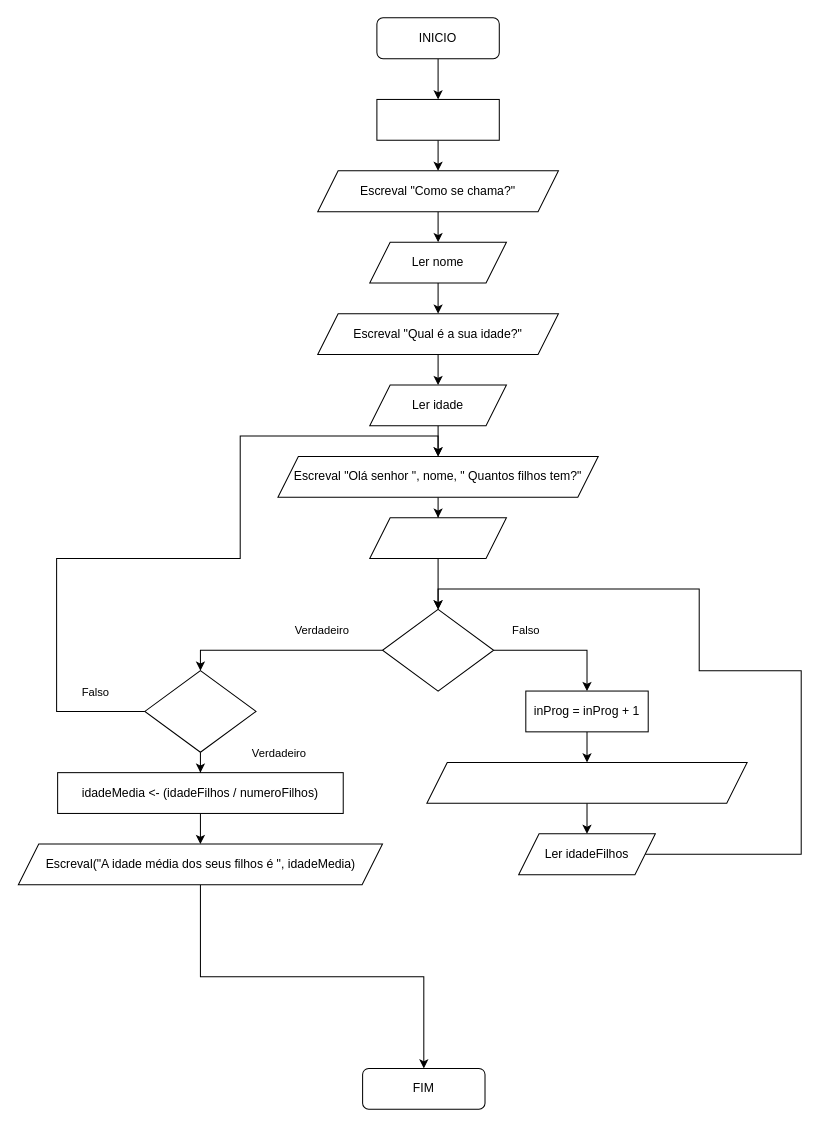
Image size: 827x1127. Some labels were removed from this diagram. Here are the shapes that lost their labels. From the top down, the box of each, then its label:
(376, 98, 499, 140): inProg = 0
(369, 517, 506, 558): Ler numeroFilhos
(381, 608, 494, 691): inProg = numeroFilhos
(144, 670, 256, 752): numeroFilhos <> 0
(426, 761, 747, 803): Escreval("Qual é a idade do seu ", inProg, " filho?")
